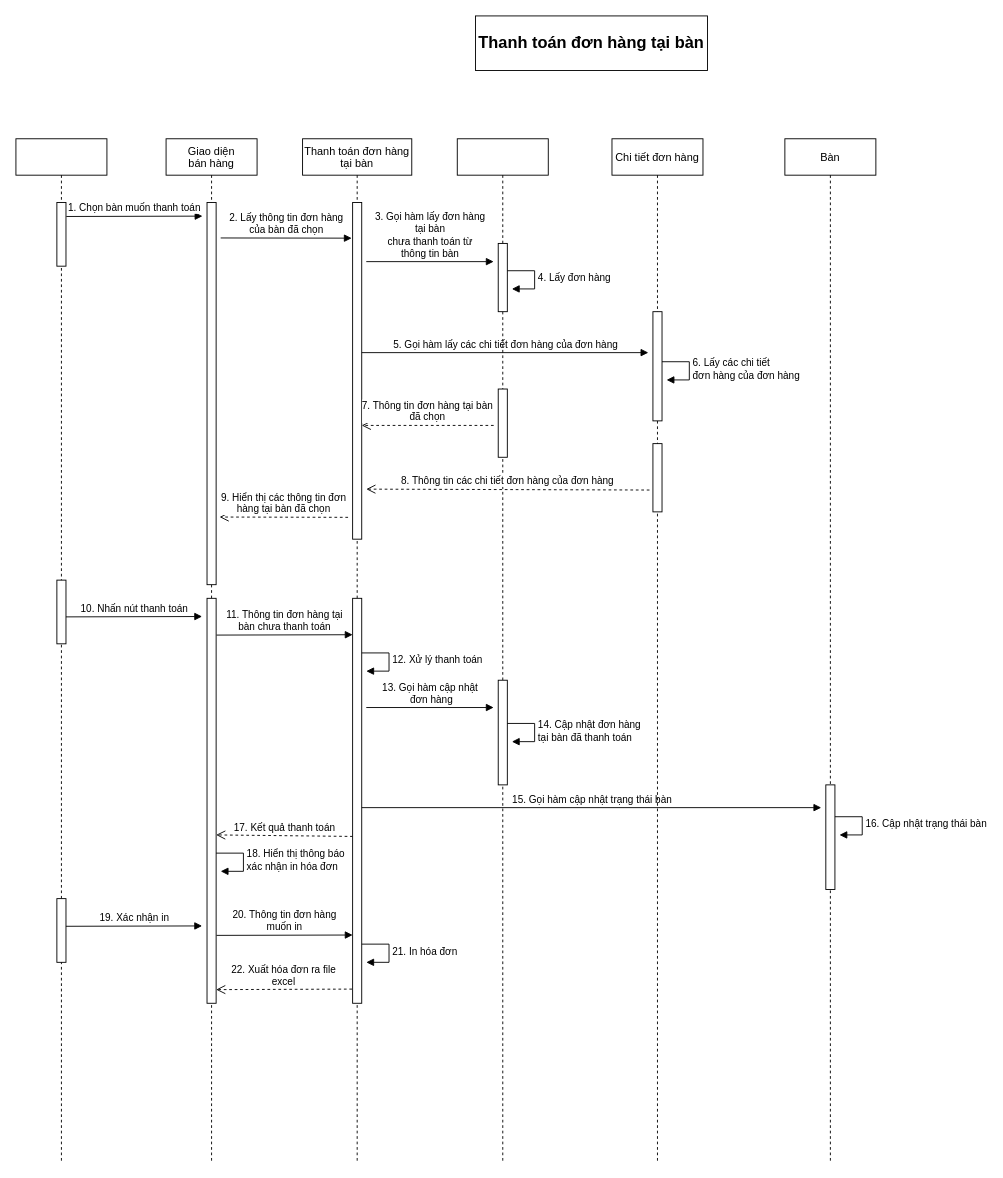
Image size: 1003x1178. Some labels were removed from this diagram. The shapes that lost their labels are listed below. From the top down, each one's centre as x and y in pixels, then its label:
point 61,650: Nhân viên bán hàng
point 502,650: Đơn hàng
